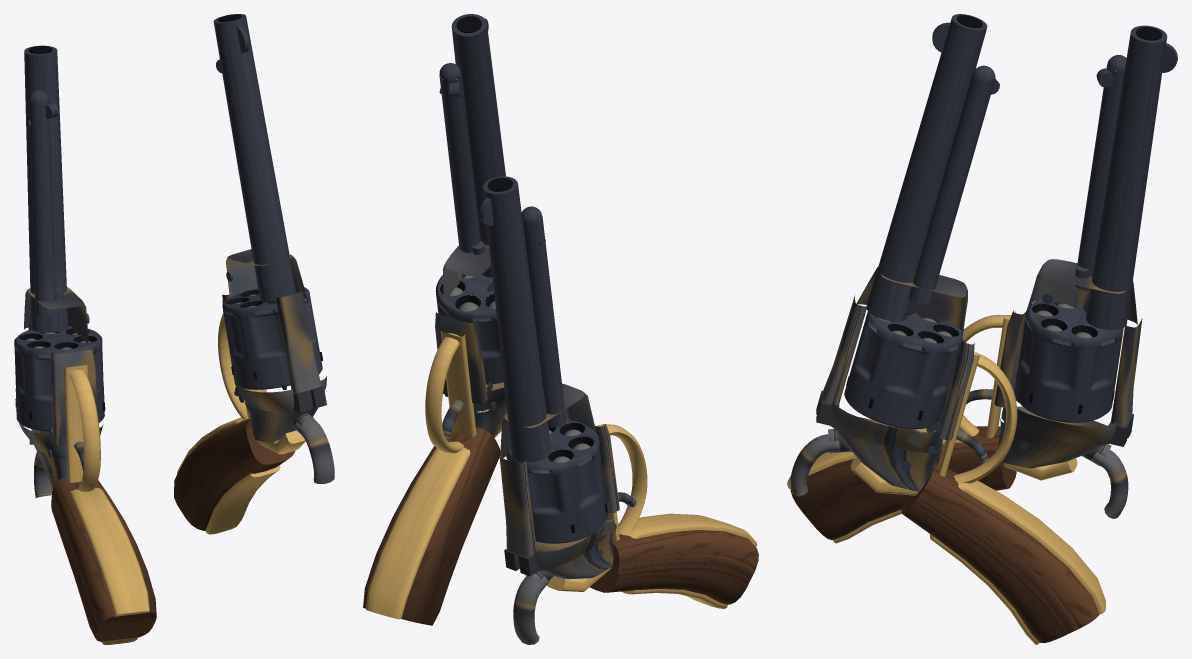
The model's file is gun.blued-six.gltf.
The picture shows the model from 3 angles, left to right: view 1: azimuth 30°, elevation 25°; view 2: azimuth 150°, elevation 25°; view 3: azimuth 270°, elevation 25°; orthographic projection. The views are drawn at different scales.
Visible parts, largest first — view 1: revolver (×2); view 2: revolver (×2); view 3: revolver (×2).
Part boxes in pixels (x1,y1,x2,y2): revolver (×2): (14,14,334,644); revolver (×2): (363,14,758,644); revolver (×2): (787,14,1177,644).
Size of the model in its own units: 0.1616 by 0.3355 by 0.1944.
Materials: 1 (1 with a texture image).
